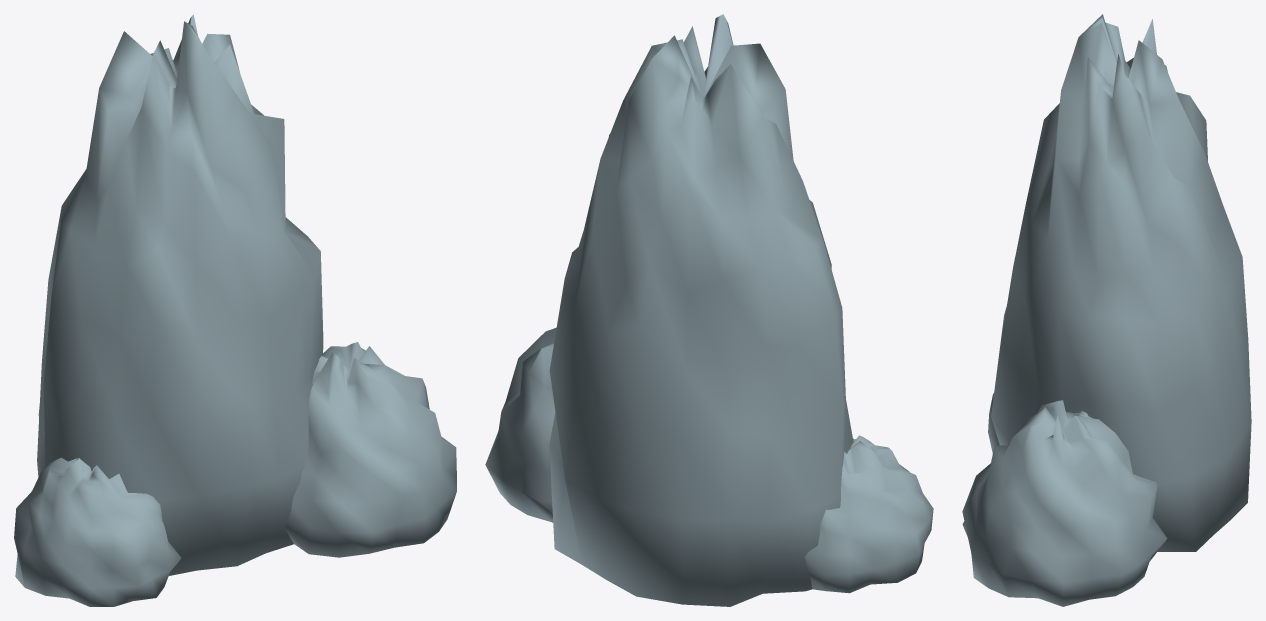
The model's file is underwater-reef-worlds-rock-outcrop-7a1a585d__7057.glb.
The picture shows the model from 3 angles, left to right: view 1: azimuth 30°, elevation 25°; view 2: azimuth 150°, elevation 25°; view 3: azimuth 270°, elevation 25°; orthographic projection. The views are drawn at different scales.
Visible parts, largest first — view 1: rock-outcrop; view 2: rock-outcrop; view 3: rock-outcrop.
Boxes of the visible parts, box(x1,y1,x2,y2) form: rock-outcrop: box(14, 14, 456, 606); rock-outcrop: box(485, 14, 933, 606); rock-outcrop: box(962, 14, 1251, 606).
Size of the model in its own units: 1.83 by 2.15 by 1.16.
